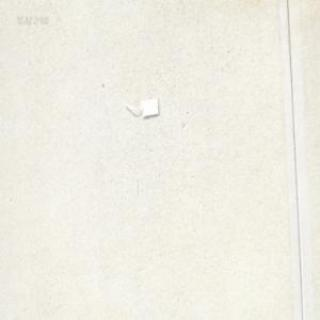LuggageTagtrack_idkeyframe: (120, 96, 158, 118)
